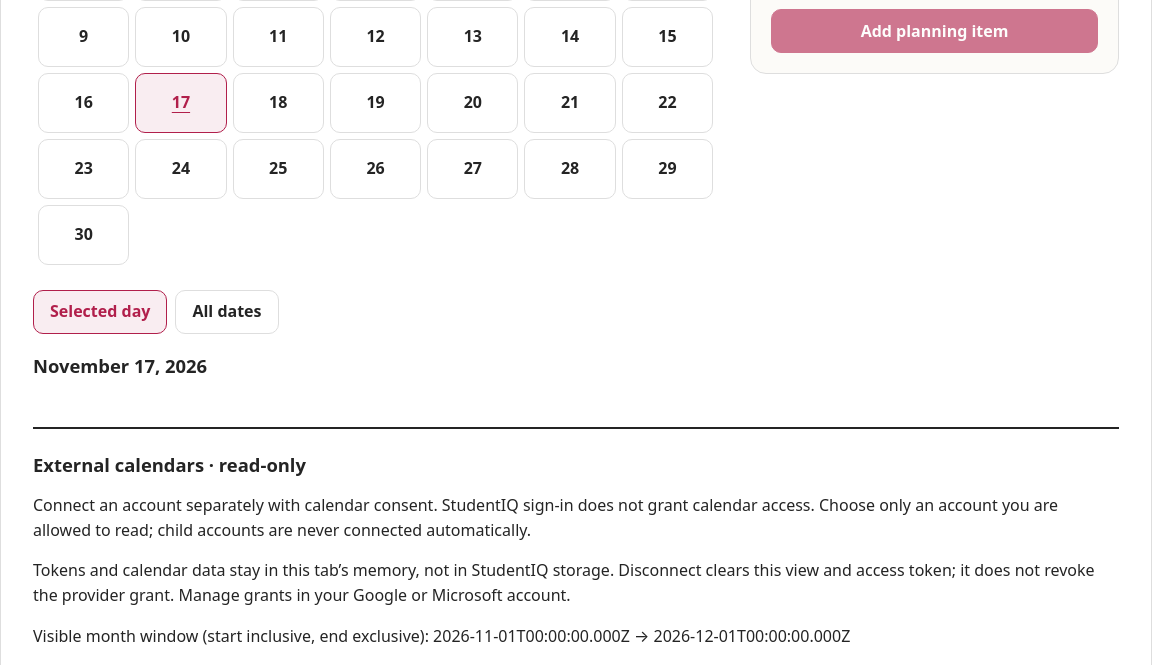
Scenario: canonical in-app planning items › clears planning data and notifies the parent workspace when server authorization is revoked
(page scrolled)
Click the button "All dates". click: point(227, 312)
box: top-left (175, 290), bottom-right (278, 334)
(page scrolled)
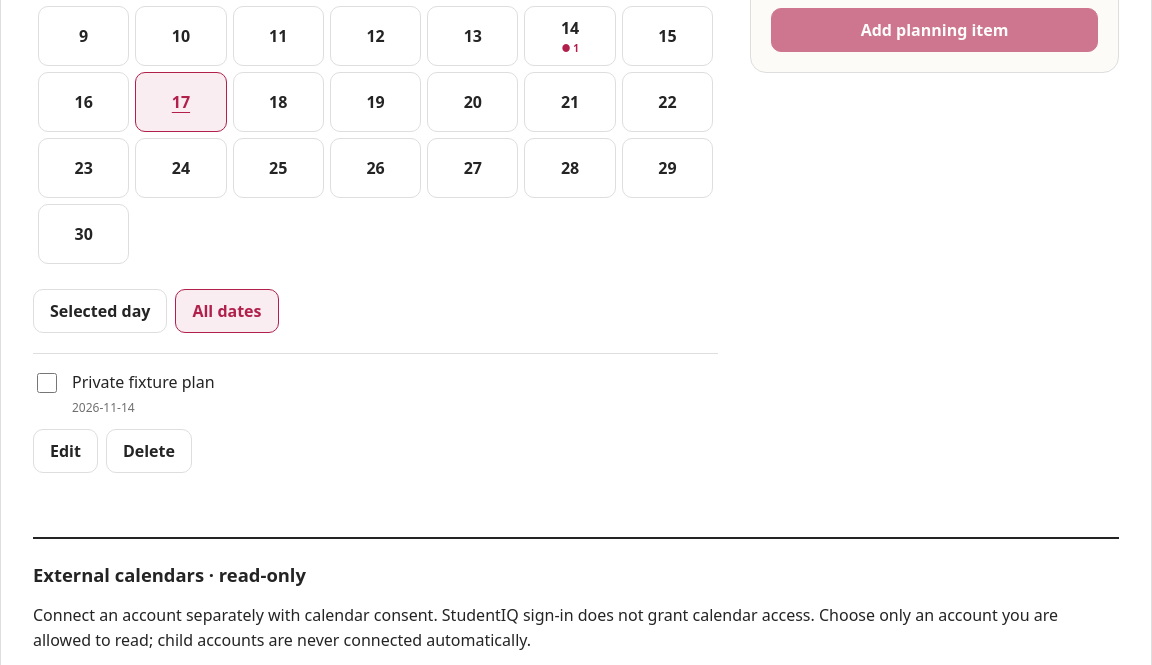
Check: the text "Private fixture plan" is shown, box top-left (72, 371), bottom-right (214, 393)
Click the checkbox named "Mark complete: Private fixture plan". click: point(47, 383)
box: top-left (37, 373), bottom-right (57, 393)
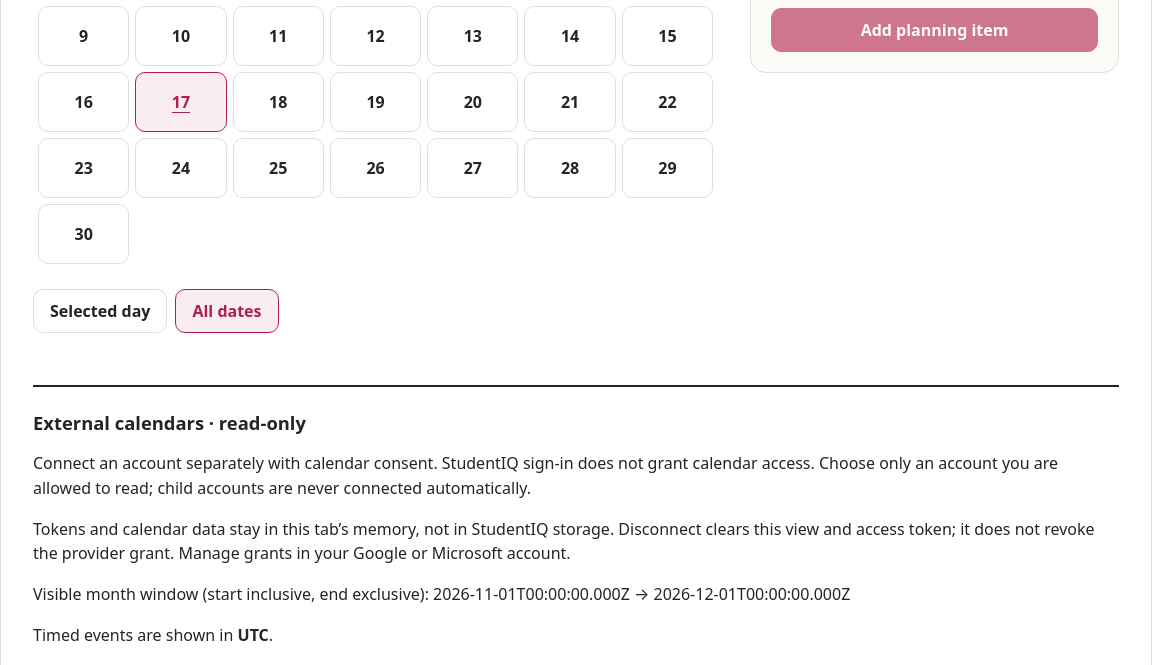
Check: the text "Private fixture plan" is gone
